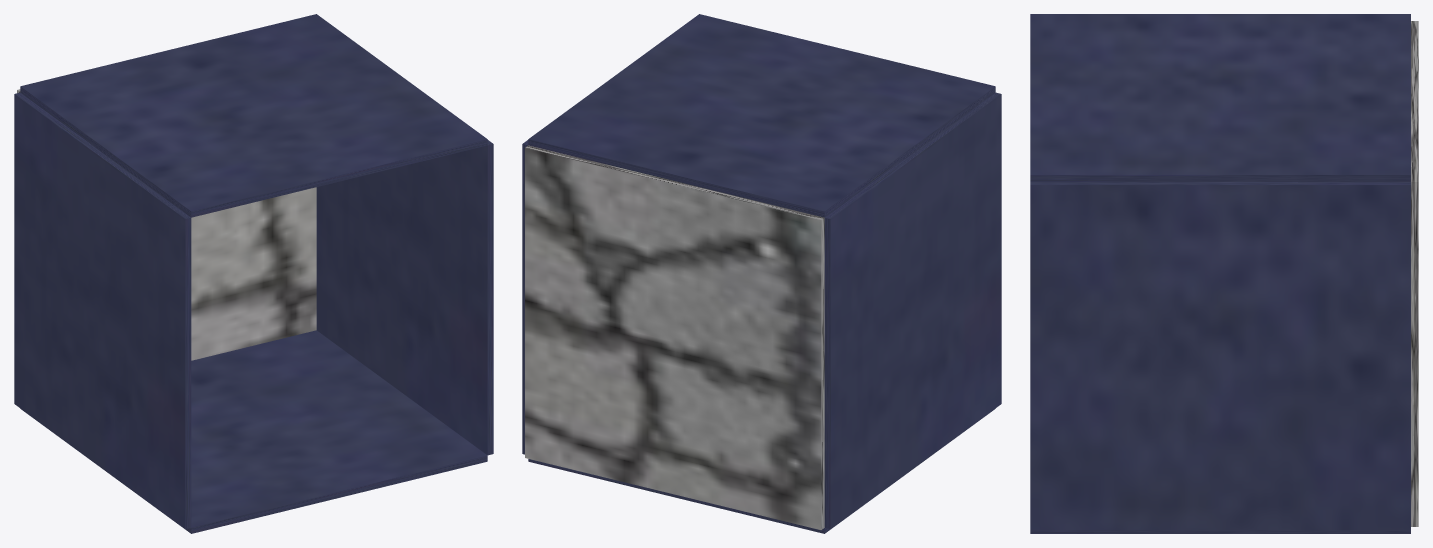
The model's file is procedural-mimitasizing5-infdgnslr.glb.
3 views of the same model, side by side, from view 1: azimuth 30°, elevation 25°; view 2: azimuth 150°, elevation 25°; view 3: azimuth 270°, elevation 25° (orthographic). The views are drawn at different scales.
Parts seen in each view (by area): view 1: wallNegativeX, wallPositiveY, wallPositiveX, wallNegativeY, floor; view 2: floor, wallNegativeX, wallPositiveY, wallNegativeY, wallPositiveX; view 3: wallPositiveX, wallPositiveY, floor, wallNegativeY.
Boxes of the visible parts, x1,y1,x2,y2 form: wallNegativeX: (14,92,191,528); wallPositiveY: (20,14,487,217); wallPositiveX: (316,140,493,455); wallNegativeY: (20,330,487,533); floor: (17,89,316,360); floor: (525,145,824,529); wallNegativeX: (824,92,1001,528); wallPositiveY: (528,14,995,217); wallNegativeY: (528,408,995,533); wallPositiveX: (522,140,528,454); wallPositiveX: (1030,182,1410,530); wallPositiveY: (1030,14,1410,181); floor: (1411,21,1418,526); wallNegativeY: (1030,530,1410,533).
Bounding box in the file's own units: 104 × 104 × 102.
Materials: 2 (2 with a texture image).
